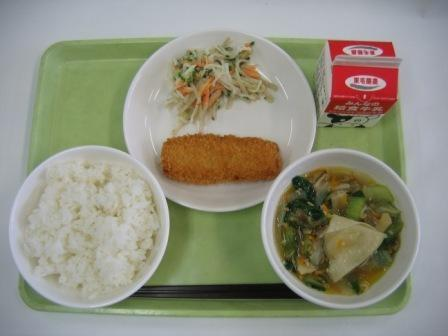Milk: (305, 38, 411, 137)
Rice: (6, 155, 161, 303)
Salad: (164, 36, 281, 120)
Soups: (267, 156, 418, 305)
cutlet: (151, 120, 295, 201)
